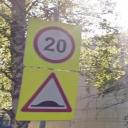speed_limit_20: (32, 25, 76, 64)
